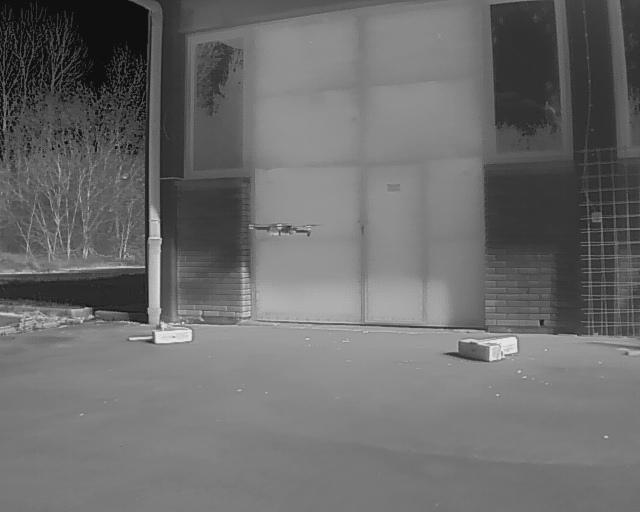drone: (230, 220, 320, 244)
